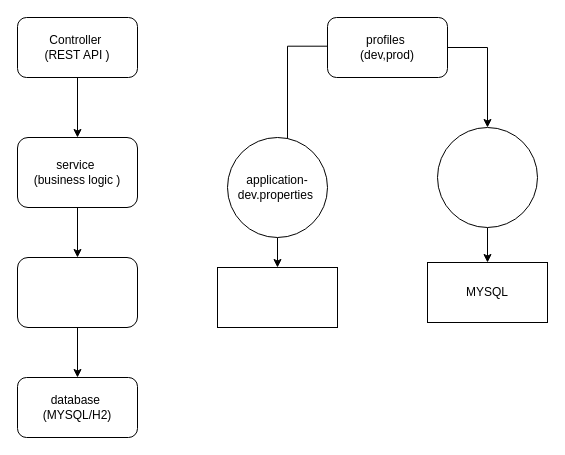
Some shapes in this 565 by 455 pixel diagram are drawn without their labels. The box of each missing label's shape, as (x1, y1, x2, y2) in pixels:
application-prod.properties: (436, 126, 538, 228)
H2: (216, 266, 338, 328)
repository (Data acess): (16, 256, 138, 328)
